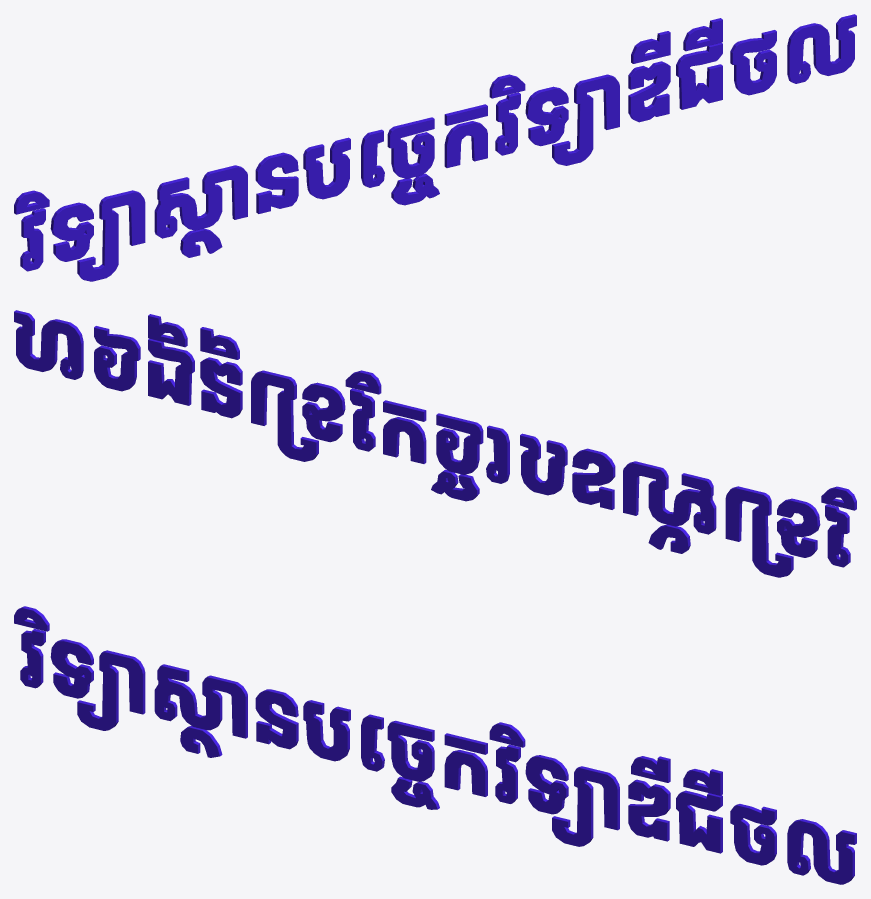
File: idtKh3d.fbx
3 renders of one model, top to bottom at view 1: azimuth 30°, elevation 25°; view 2: azimuth 150°, elevation 25°; view 3: azimuth 330°, elevation 25°, orthographic.
Visible parts, largest first — view 1: mesh_0; view 2: mesh_0; view 3: mesh_0.
Part boxes in pixels (x1,y1,x2,y2): mesh_0: (14, 14, 856, 281); mesh_0: (14, 310, 856, 577); mesh_0: (14, 606, 856, 884).
Size of the model in its own units: 3 by 0.3722 by 0.0151.
